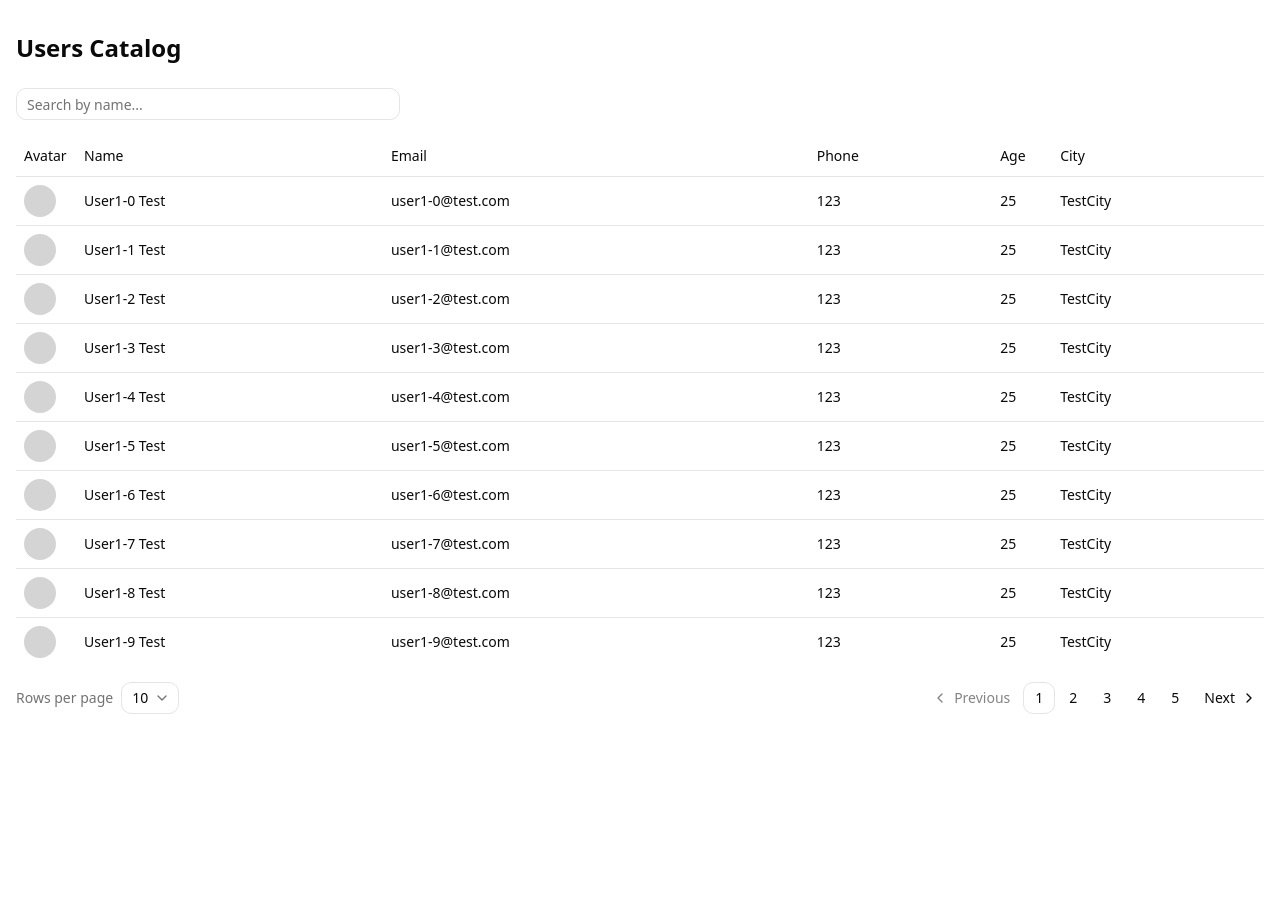
Scenario: UsersPage - Rapid Interactions › rapid search typing shows only the final query results
This screenshot has width=1280, height=900.
// Type "Emily" rapidly
Type "Emily" into the field with placeholder "Search by name...".
click(208, 104); type("Emily")  # box [16, 88, 400, 120]
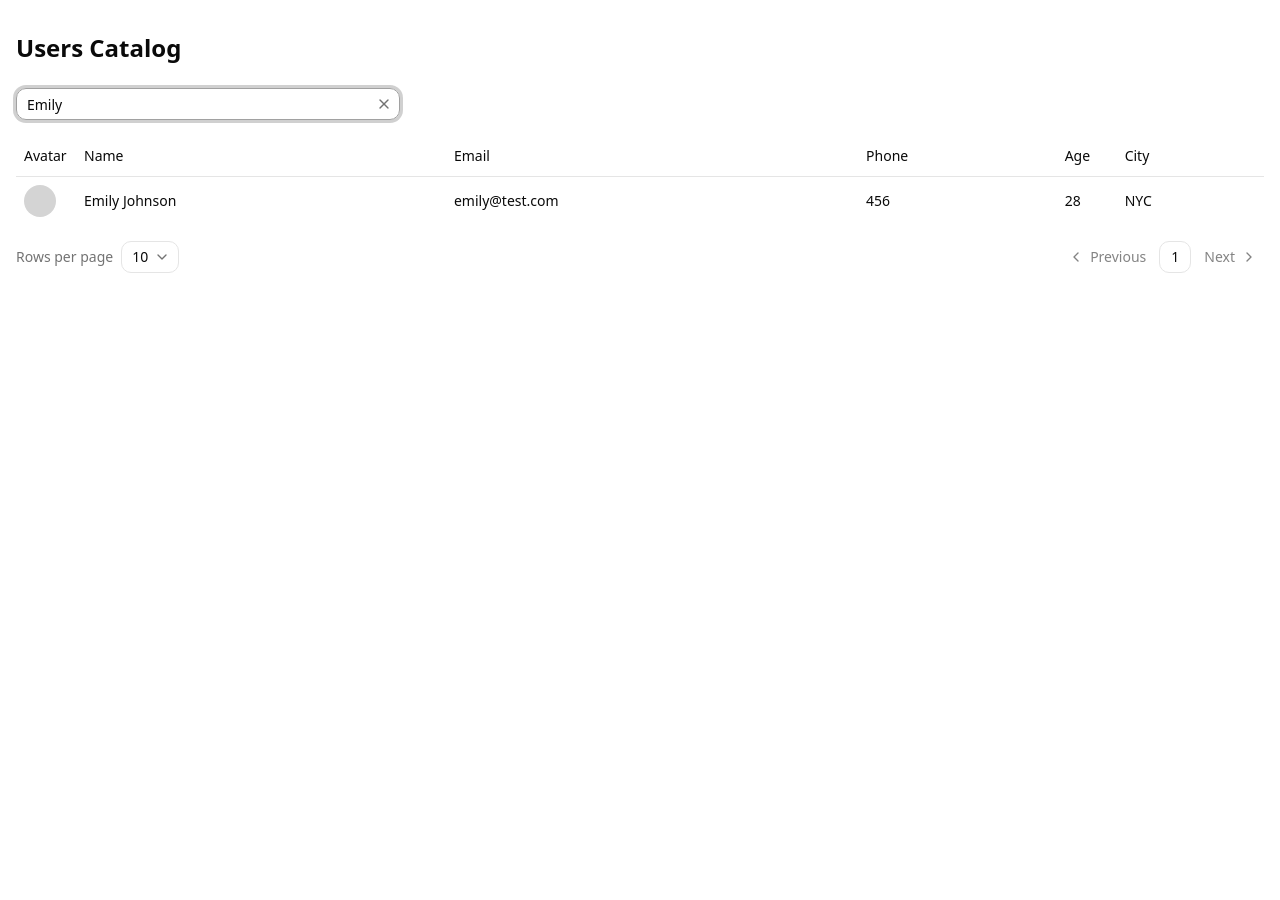
Result: the text "Emily Johnson" is shown at [76, 176, 446, 224]
